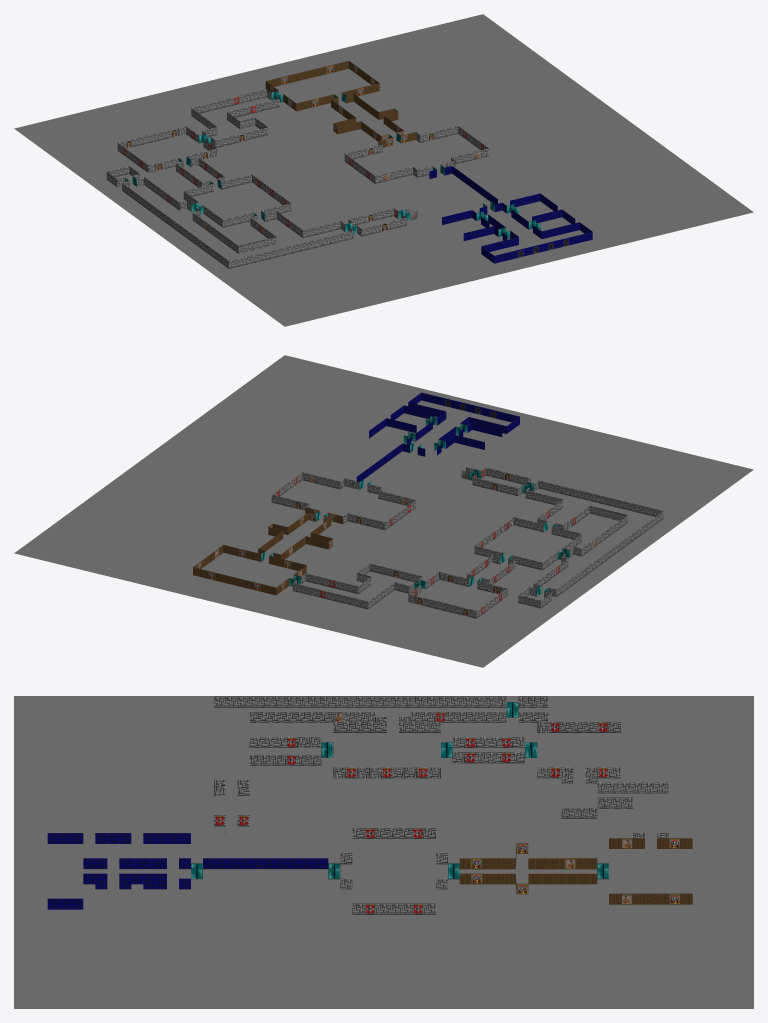
The model's file is Floor_1.fbx.
The picture shows the model from 3 angles, top to bottom: view 1: azimuth 30°, elevation 25°; view 2: azimuth 150°, elevation 25°; view 3: azimuth 270°, elevation 25°; orthographic projection. The views are drawn at different scales.
Parts seen in each view (by area): view 1: Ground, Floor_1; view 2: Ground, Floor_1; view 3: Ground, Floor_1.
Boxes of the visible parts, box(x1,y1,x2,y2) form: Ground: box(14, 14, 753, 326); Floor_1: box(106, 61, 592, 268); Ground: box(14, 355, 753, 667); Floor_1: box(193, 392, 663, 618); Ground: box(14, 696, 753, 1008); Floor_1: box(47, 696, 692, 914).
Bounding box in the file's own units: 12388 × 201 × 12388.
